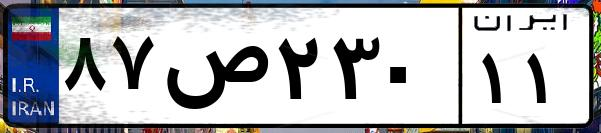0: (385, 28, 445, 110)
1: (475, 38, 525, 113), (525, 38, 570, 115)
2: (270, 28, 330, 110)
3: (330, 28, 385, 110)
7: (110, 28, 158, 98)
8: (57, 26, 110, 100)
ص: (158, 20, 270, 120)
